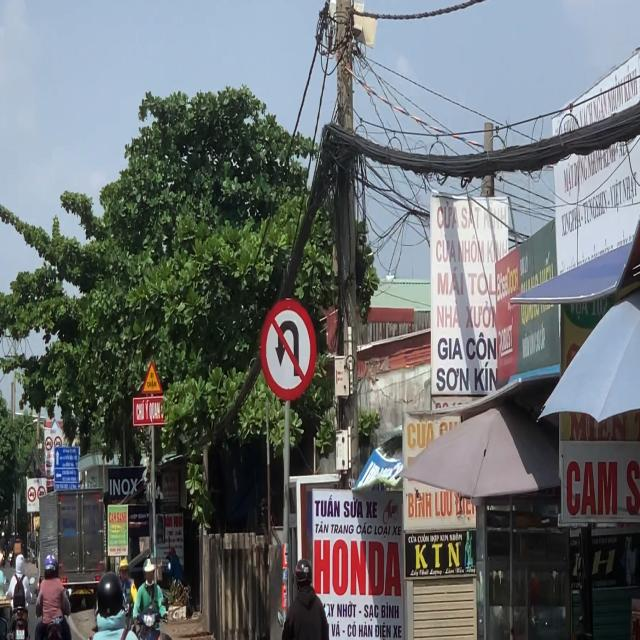Cam quay dau xe: (258, 296, 320, 402)
Nguy hiem: (141, 358, 165, 395)
